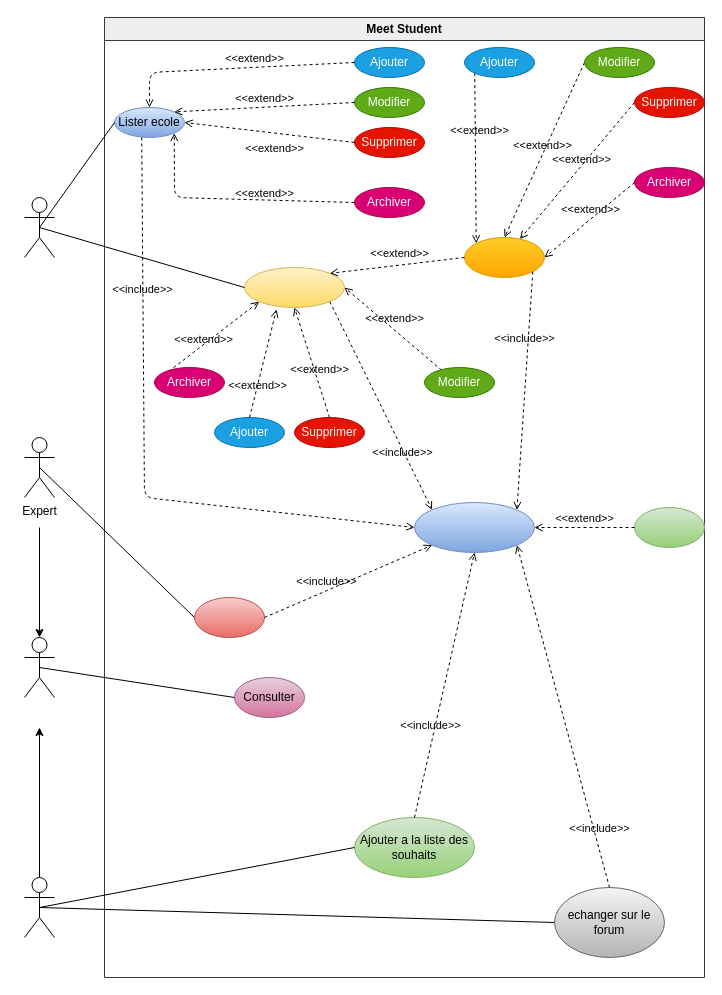
This 722x995 diagram has some shape labels left out. The shapes that lost their labels are listed below. From the top down, each one's centre as x and y in pixels, then its label:
[39,227]: Admin
[504,257]: Lister Cours
[294,287]: Lister formations
[474,527]: Se connecter
[669,527]: S'incrire
[229,617]: evaluer
[39,667]: Visiteur
[39,907]: Etudiant
